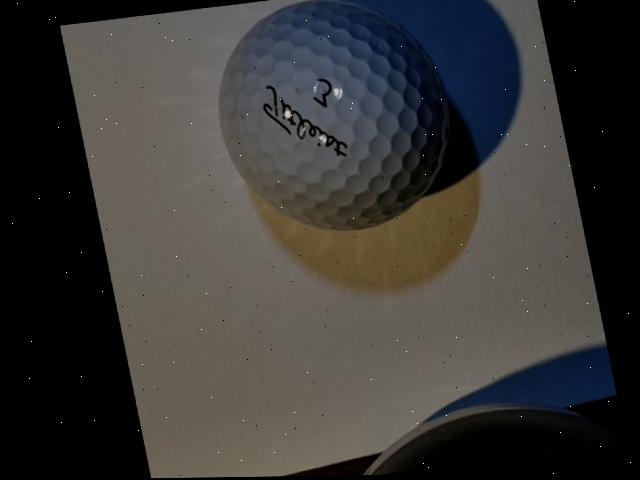Ball: (195, 1, 469, 245)
Titleist: (255, 79, 346, 167)
